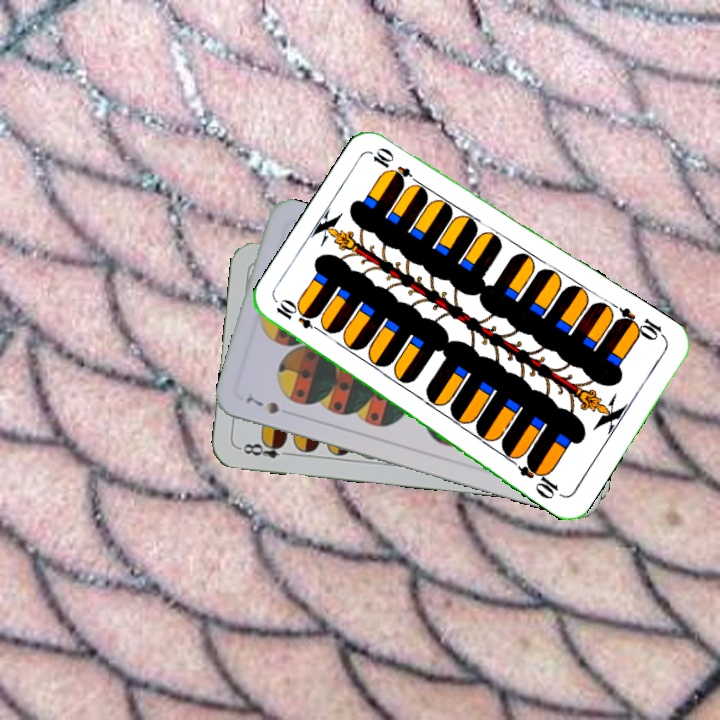E10: (612, 303, 668, 344), (272, 297, 327, 337)
E8: (236, 436, 295, 461)
S7: (242, 392, 282, 417)
